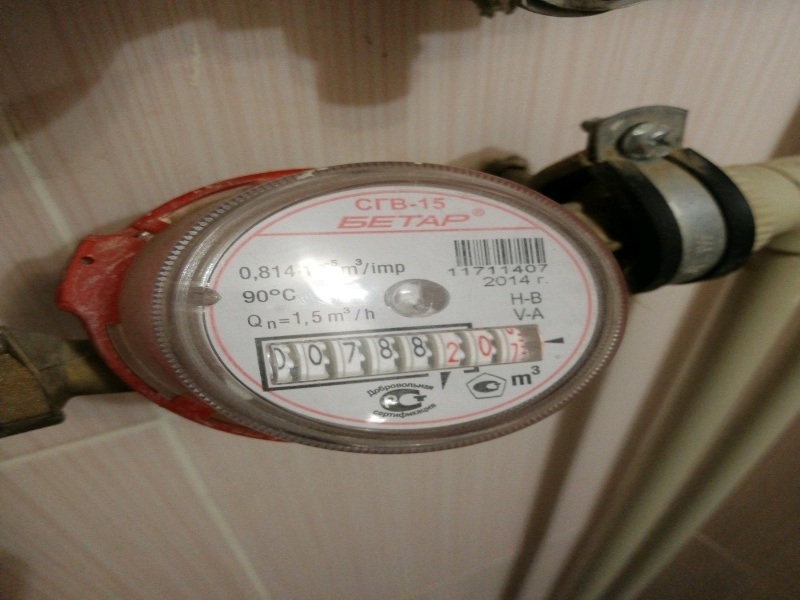meter: (262, 332, 541, 371)
